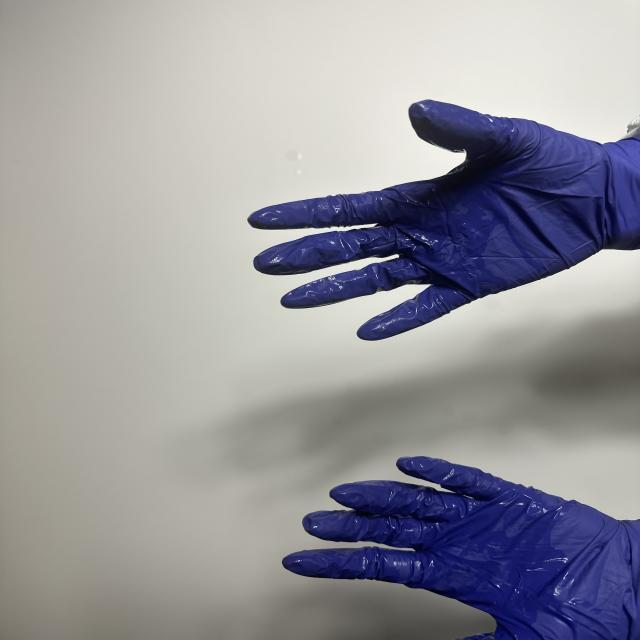gloves_contaminated: (248, 100, 640, 340), (282, 456, 640, 640)
